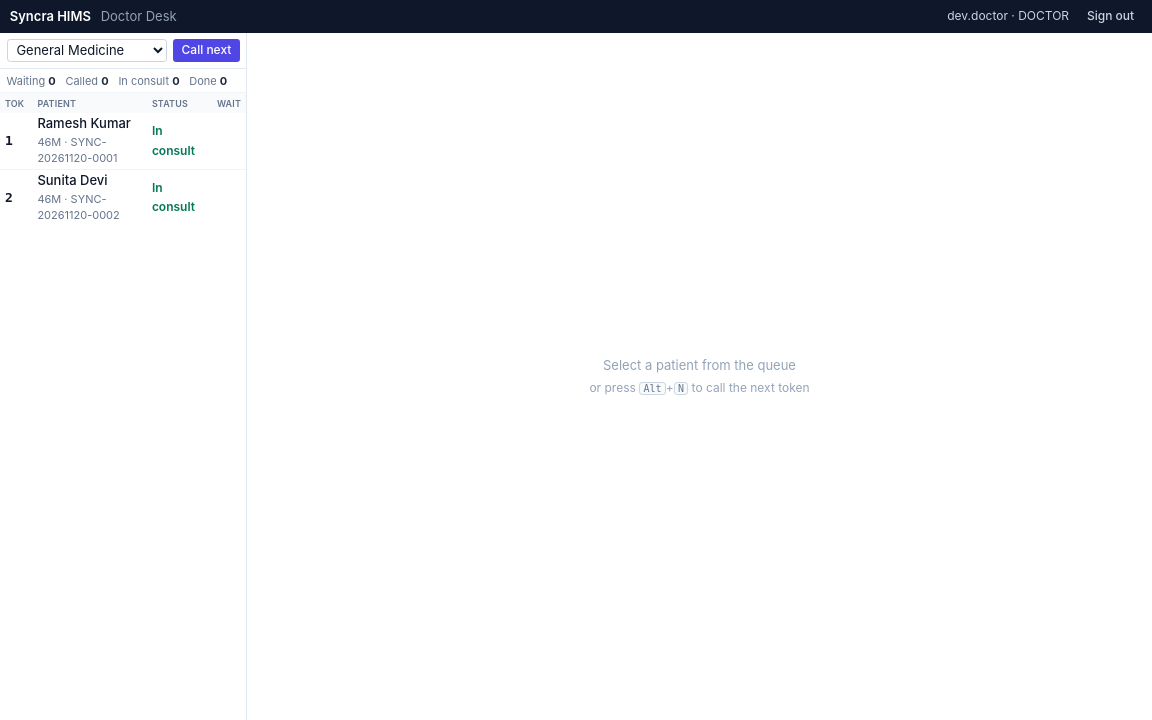
Test case: Orders & results › orders a test from the catalogue by keyboard, with the primary diagnosis as indication
This screenshot has width=1152, height=720.
Step 1. Click the text "Ramesh Kumar" → (84, 124), box left=37, top=114, right=131, bottom=134
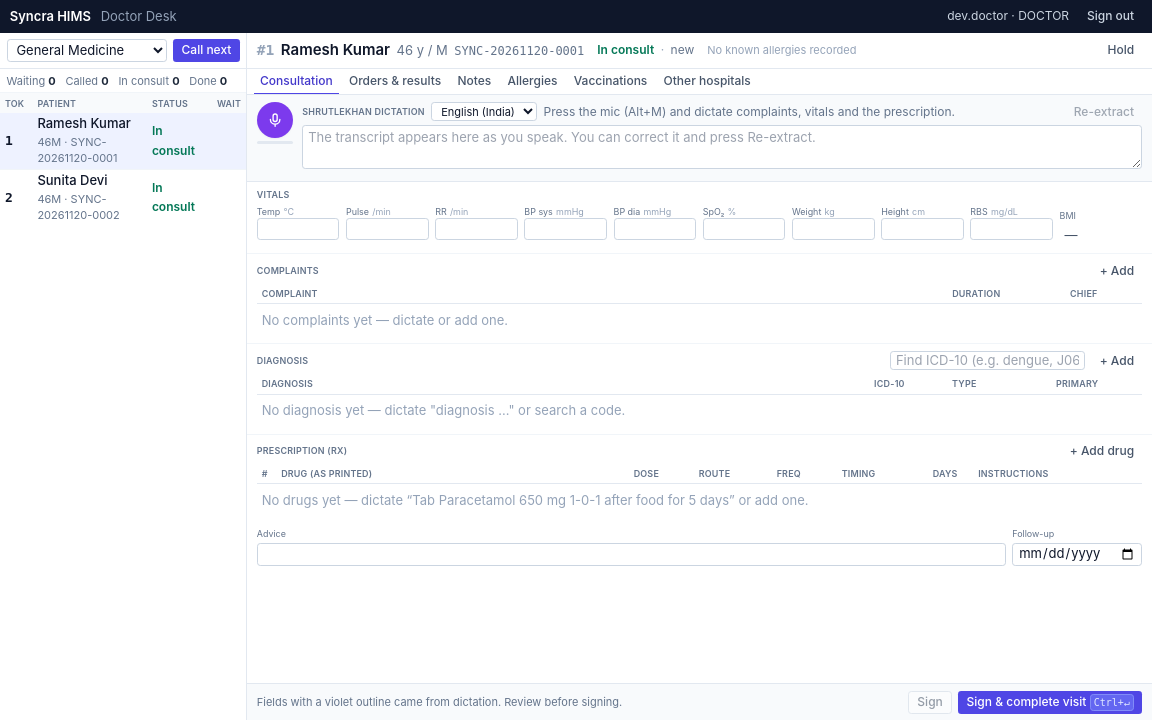
Now the tab "Orders & results" is shown
Step 2. Click the tab "Orders & results" → (395, 82), box left=342, top=69, right=448, bottom=95
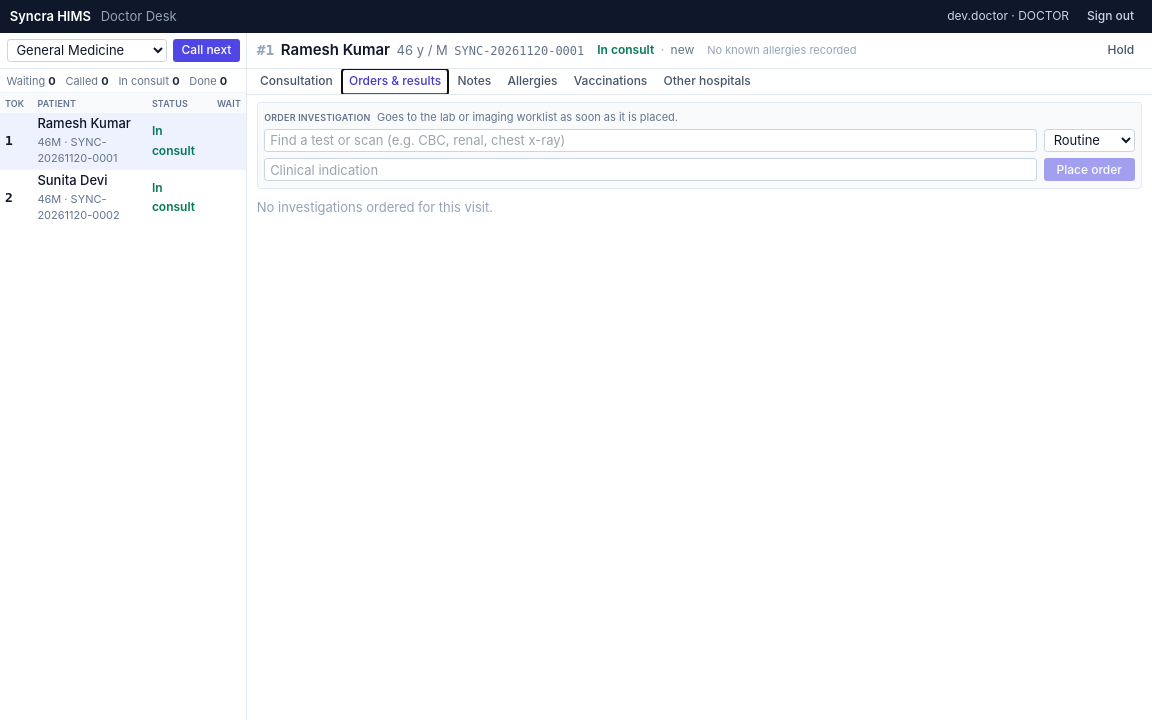
Step 3. Type "renal" into the dropdown labelled "Find a test" → (651, 140), box left=264, top=129, right=1037, bottom=152
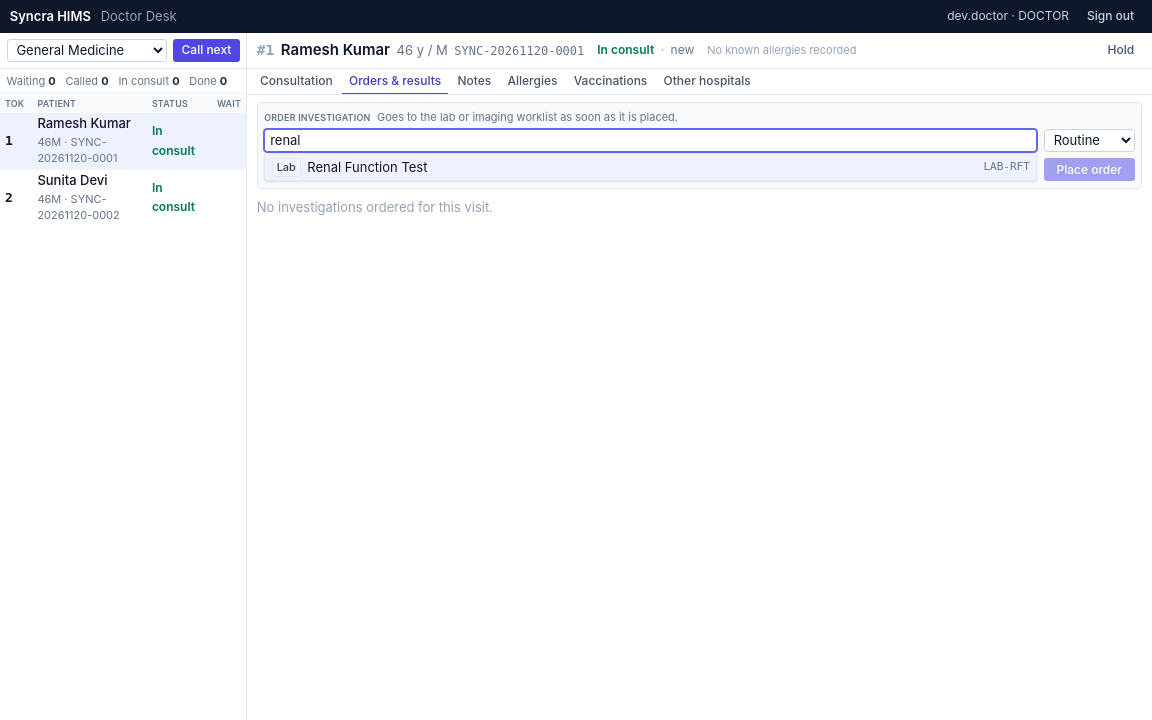
Step 4. Press Enter
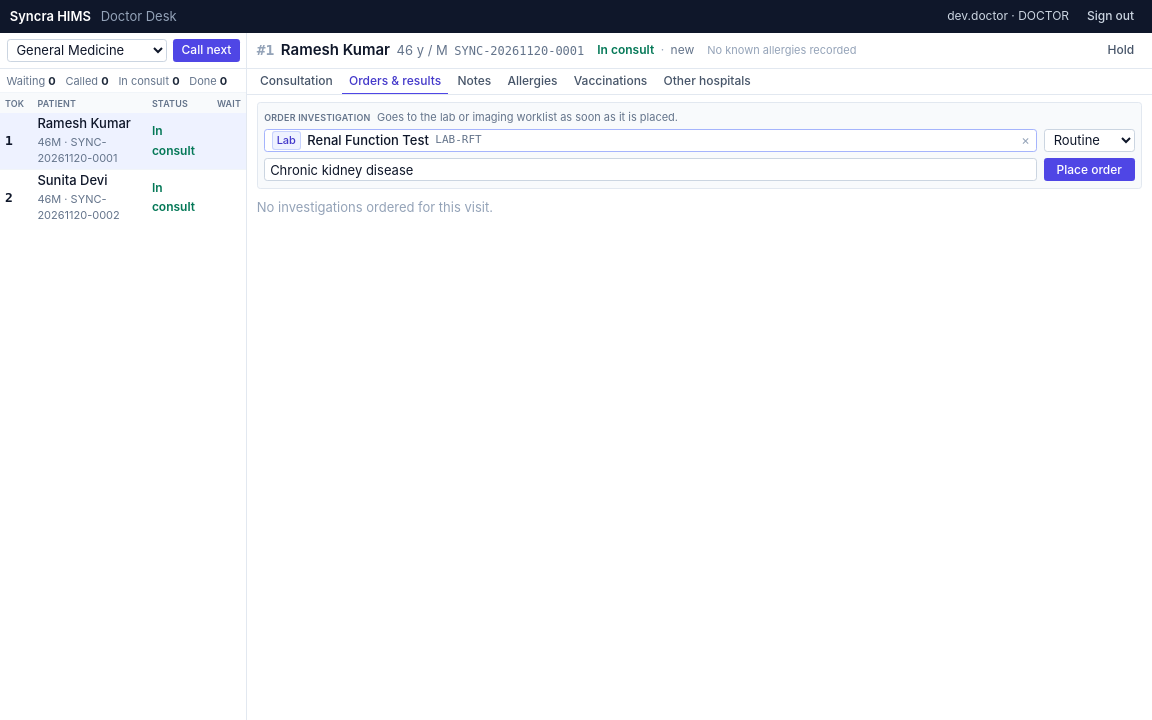
Now the field named "Clinical indication" holds "Chronic kidney disease", box left=264, top=158, right=1037, bottom=181
Step 5. Select "Urgent" in the dropdown named "Priority" → (1089, 140), box left=1044, top=129, right=1135, bottom=152
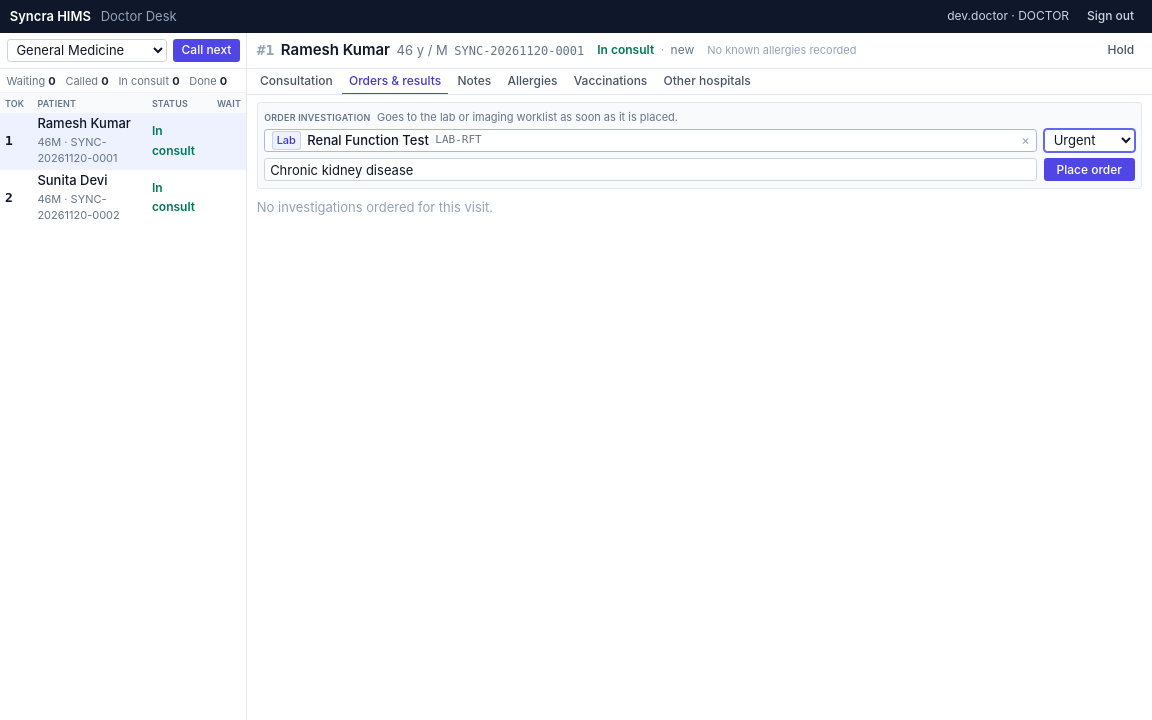
Step 6. Click the button "Place order" → (1089, 170), box left=1044, top=158, right=1135, bottom=181
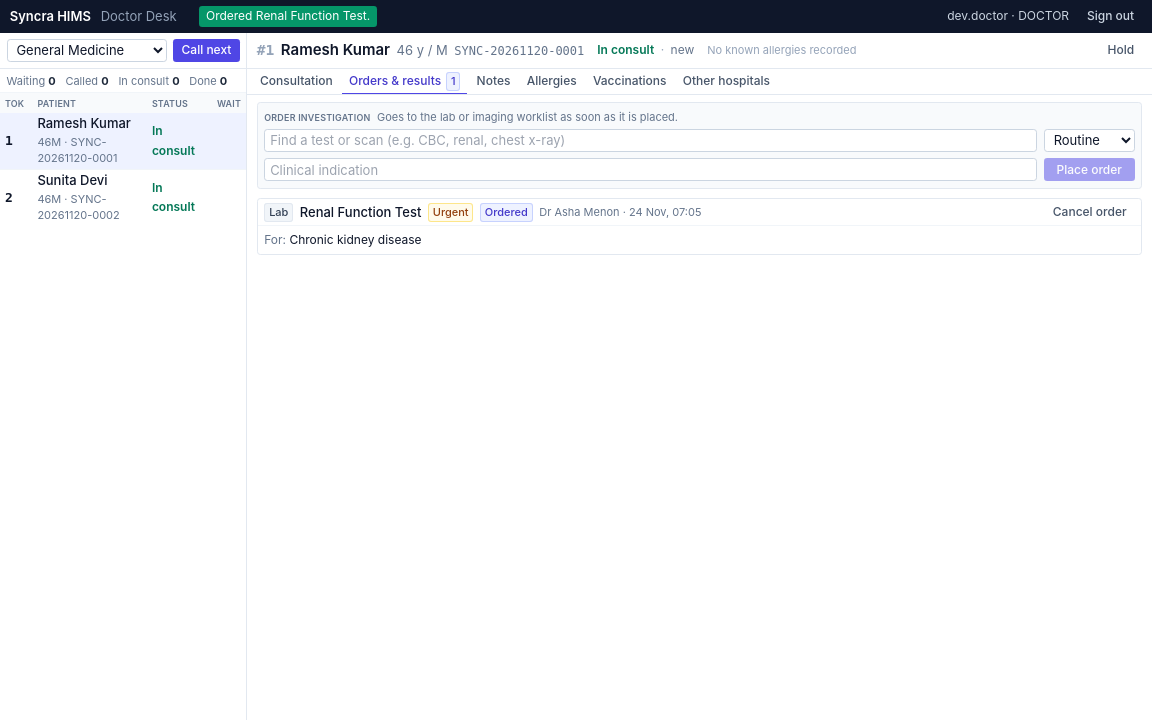
Now the text "Ordered" is shown, box left=480, top=203, right=533, bottom=222
Now the text "Urgent" is shown, box left=428, top=203, right=474, bottom=222
Now the message reads "Ordered Renal Function Test.", box left=206, top=8, right=370, bottom=23
